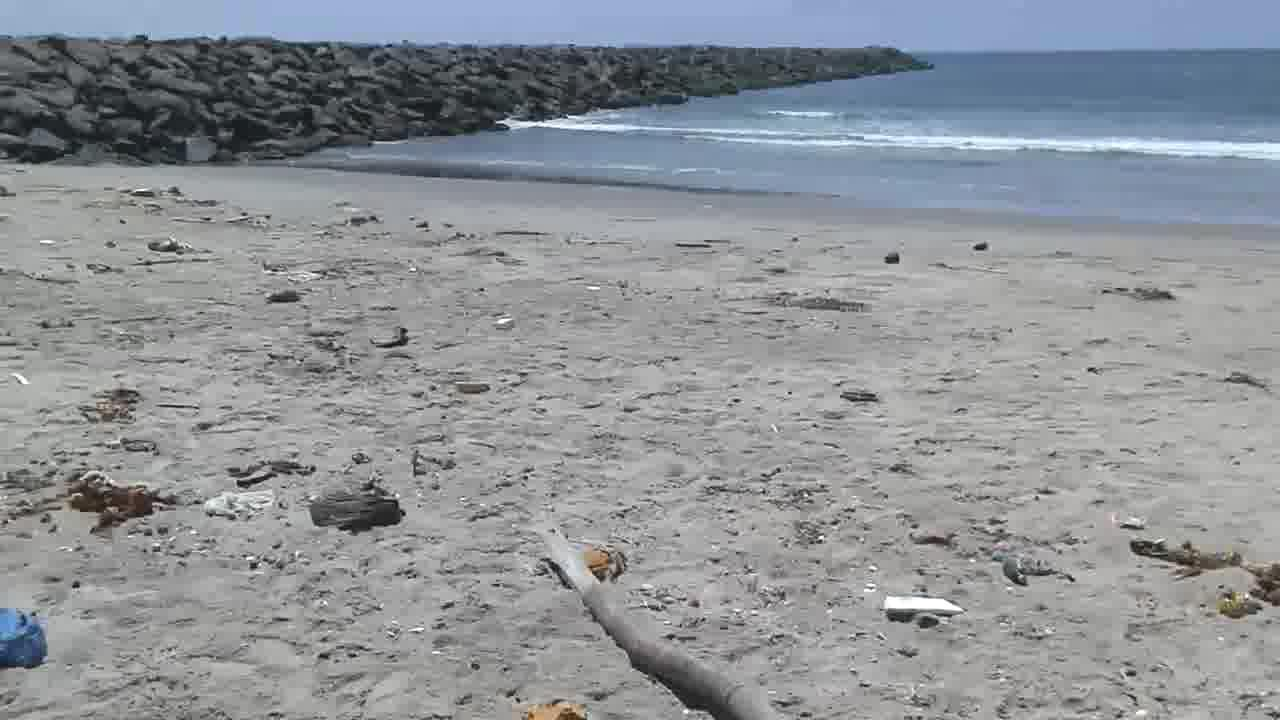large collection of objects: (296, 474, 406, 532)
obj: (537, 528, 783, 718), (1131, 540, 1279, 620), (15, 470, 164, 540), (879, 594, 966, 626), (1, 611, 42, 673), (564, 544, 630, 582)
sand/background: (1, 0, 1279, 236)
